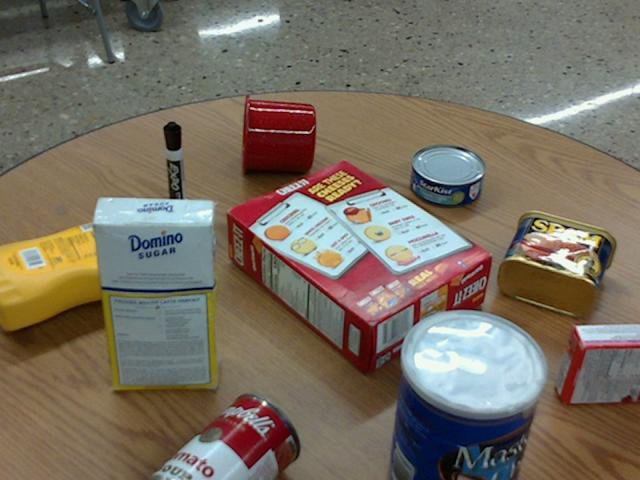cracker_box: (225, 160, 489, 368)
gelatin_box: (556, 323, 639, 403)
large_marker: (163, 121, 186, 223)
master_chef_can: (387, 310, 545, 479)
mug: (241, 94, 315, 173)
mustard_bottle: (0, 218, 184, 329)
potted_meat_can: (498, 209, 615, 316)
sugar_box: (91, 196, 215, 389)
tomato_soup_can: (148, 392, 300, 479)
tuna_fish_can: (410, 144, 485, 206)
